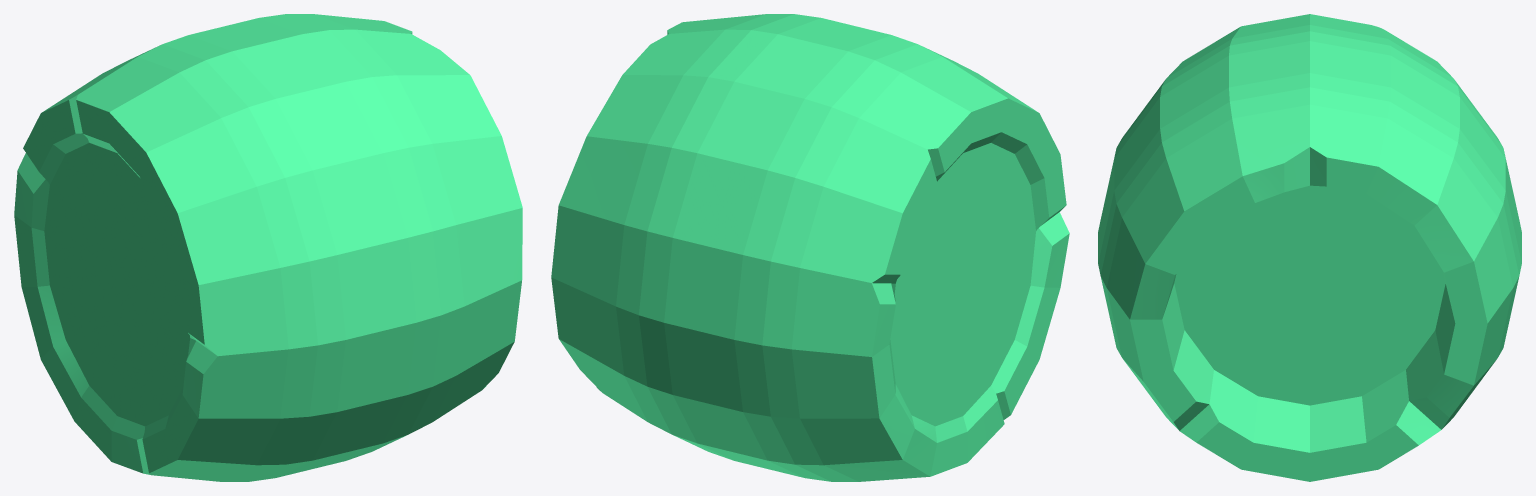
Rendered from barrel.fbx.
The picture shows the model from 3 angles, left to right: view 1: azimuth 30°, elevation 25°; view 2: azimuth 150°, elevation 25°; view 3: azimuth 270°, elevation 25°; orthographic projection. The views are drawn at different scales.
Visible parts, largest first — view 1: 0barrel; view 2: 0barrel; view 3: 0barrel.
Boxes of the visible parts, x1,y1,x2,y2 form: 0barrel: (14, 14, 522, 481); 0barrel: (551, 14, 1069, 481); 0barrel: (1098, 14, 1521, 481).
Bounding box in the file's own units: 166 × 199 × 200.
